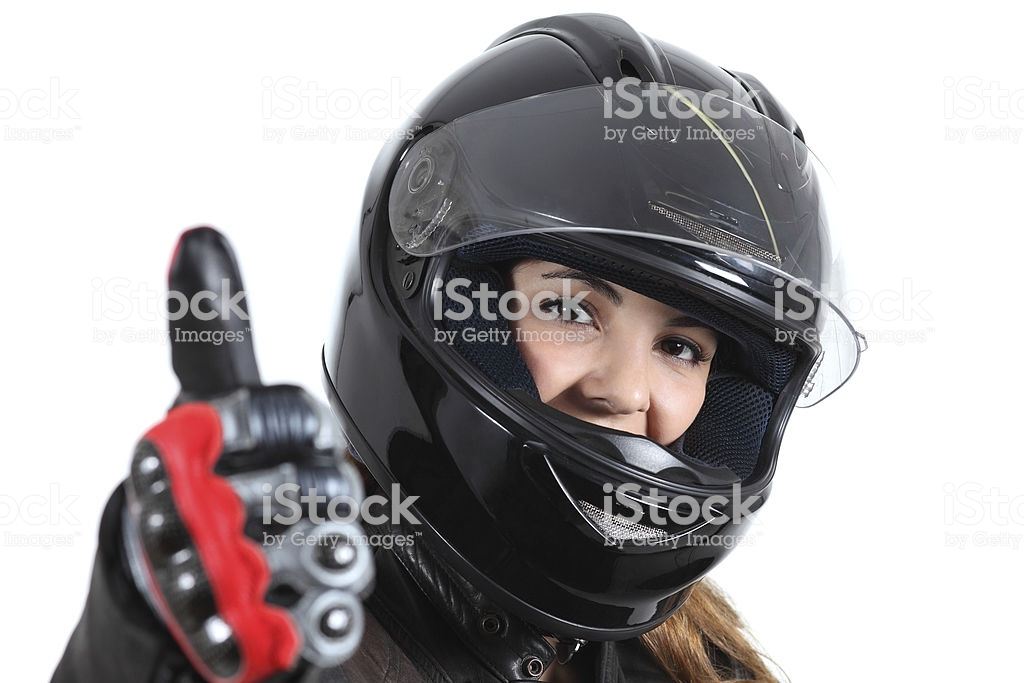helmet: (360, 37, 816, 600)
